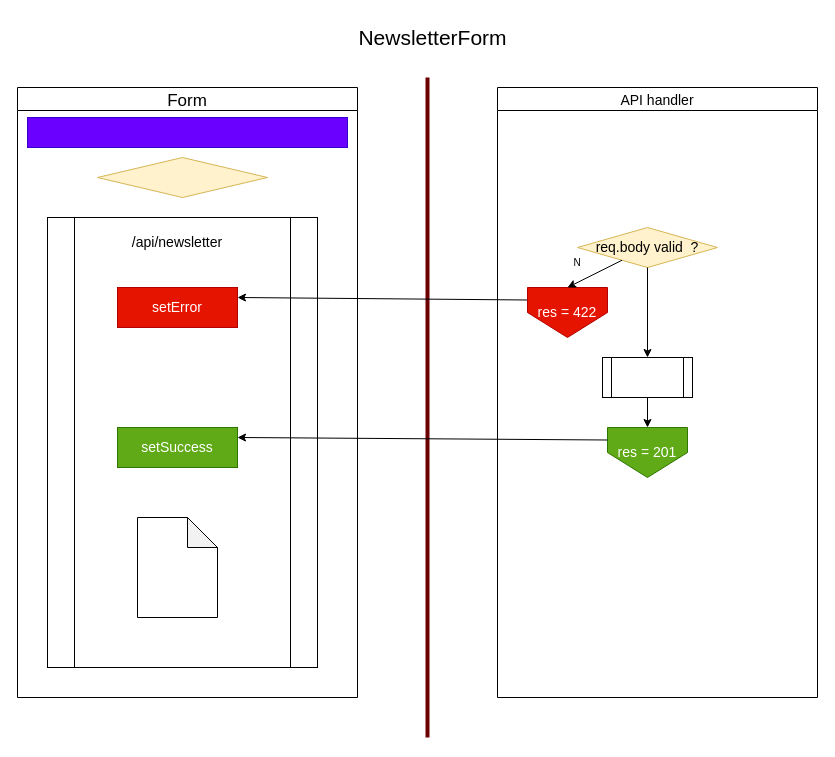
This 835x757 diagram has some shape labels left out. The centre of each missing label's shape, as x and y in pixels:
"isFormValid ?" belongs at [182,177].
"POST" belongs at [647,377].
"show icon" belongs at [177,567].
"state: isFormValid, success, error" belongs at [187,132].
